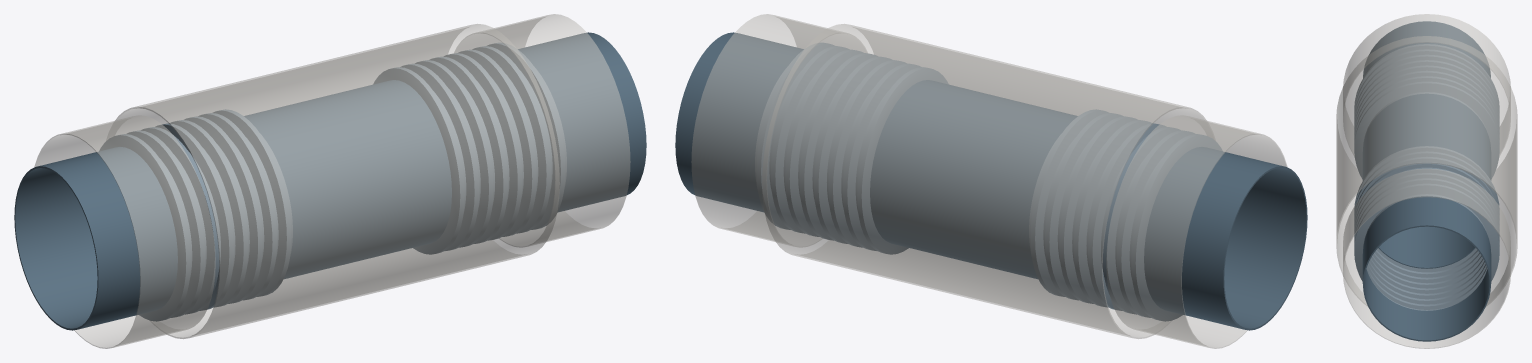
Rendered from 2ppu-dn800-L3086-D820-k-o1160.glb.
3 renders of one model, left to right at view 1: azimuth 30°, elevation 25°; view 2: azimuth 150°, elevation 25°; view 3: azimuth 270°, elevation 25°, orthographic. The views are drawn at different scales.
Parts seen in each view (by area): view 1: uslovno_kozhuh_ppu, patrubok_1, prokladka_silfon_1, prokladka_silfon_2, uslovno_obolochka_l, uslovno_obolochka_r, patrubok_3, patrubok_4, patrubok_2; view 2: uslovno_kozhuh_ppu, patrubok_1, prokladka_silfon_1, prokladka_silfon_2, uslovno_obolochka_l, uslovno_obolochka_r, patrubok_3, patrubok_4, patrubok_2; view 3: uslovno_kozhuh_ppu, prokladka_silfon_2, prokladka_silfon_1, patrubok_4, uslovno_obolochka_r, uslovno_obolochka_l, patrubok_3, patrubok_2, patrubok_1.
Part boxes in pixels (box(x1,y1,x2,y2)): uslovno_kozhuh_ppu: box(114, 24, 559, 338); patrubok_1: box(14, 147, 177, 330); prokladka_silfon_1: box(99, 109, 292, 321); prokladka_silfon_2: box(373, 42, 566, 254); uslovno_obolochka_l: box(34, 115, 215, 348); uslovno_obolochka_r: box(454, 14, 630, 247); patrubok_3: box(312, 80, 451, 262); patrubok_4: box(518, 32, 646, 212); patrubok_2: box(244, 99, 372, 278); uslovno_kozhuh_ppu: box(762, 24, 1207, 338); patrubok_1: box(1144, 147, 1307, 330); prokladka_silfon_1: box(1029, 109, 1222, 321); prokladka_silfon_2: box(755, 42, 948, 254); uslovno_obolochka_l: box(1106, 115, 1287, 348); uslovno_obolochka_r: box(691, 14, 867, 247); patrubok_3: box(870, 80, 1009, 262); patrubok_4: box(675, 32, 803, 212); patrubok_2: box(949, 99, 1077, 278); uslovno_kozhuh_ppu: box(1336, 36, 1517, 306); prokladka_silfon_2: box(1354, 146, 1499, 310); prokladka_silfon_1: box(1354, 44, 1499, 178); patrubok_4: box(1362, 196, 1491, 341); uslovno_obolochka_r: box(1343, 168, 1510, 348); uslovno_obolochka_l: box(1343, 14, 1510, 155); patrubok_3: box(1363, 123, 1490, 268); patrubok_2: box(1362, 93, 1491, 238); patrubok_1: box(1363, 21, 1490, 77).
Bounding box in the file's own units: 3086 × 1160 × 1160.
